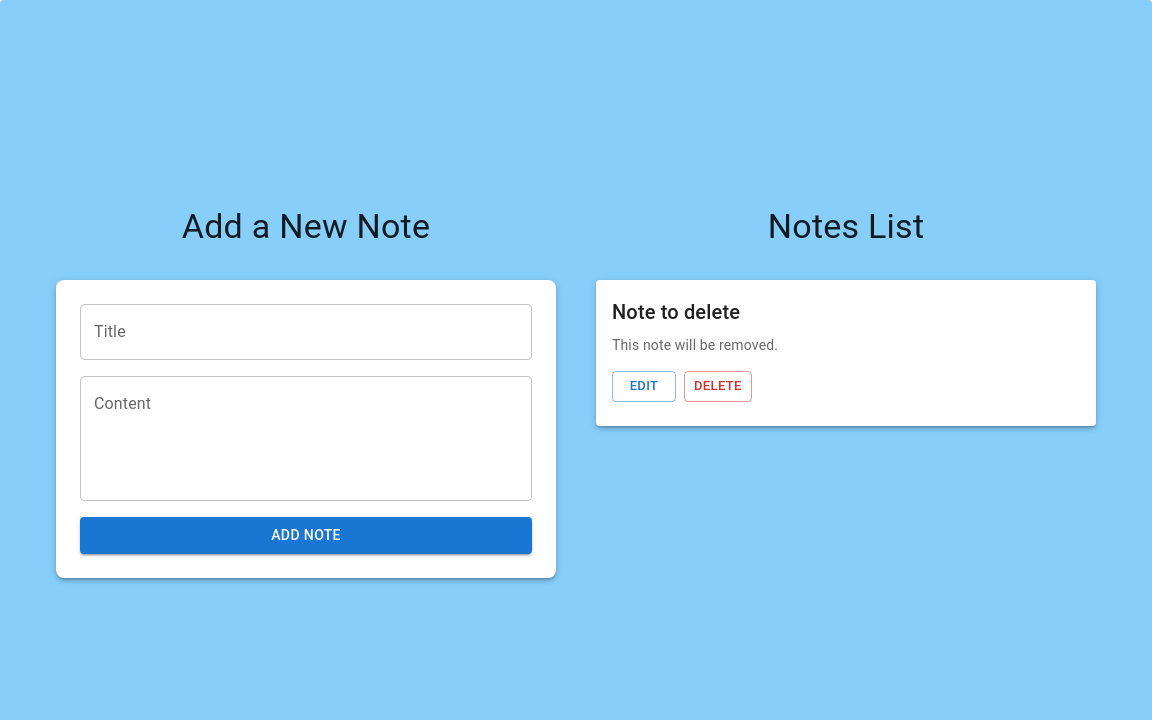
deletes a note after confirmation
The width and height of the screenshot is (1152, 720).
Click the button "Delete".
click(718, 387)  # box left=684, top=371, right=752, bottom=402
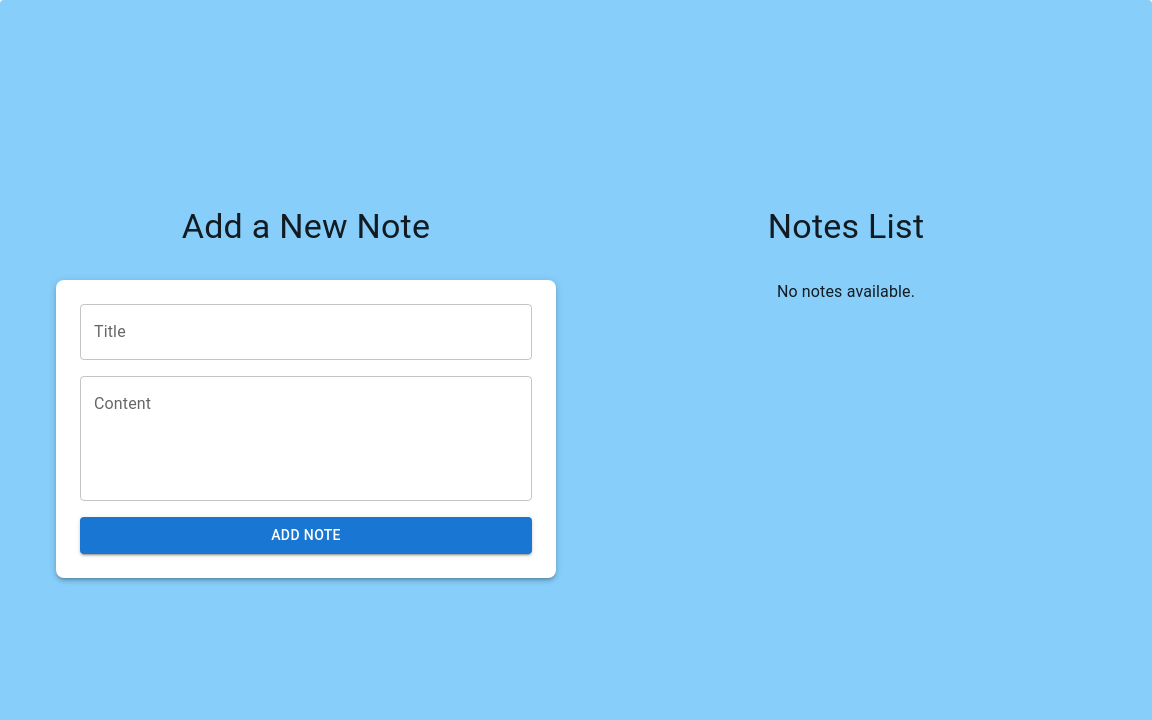
Expected: the heading "Note to delete" is gone
